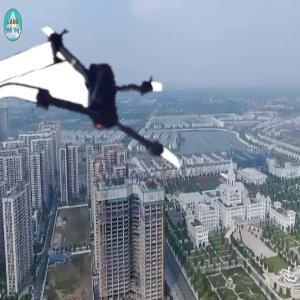drone: (5, 12, 197, 204)
